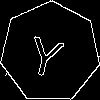Y: (25, 27, 68, 80)
